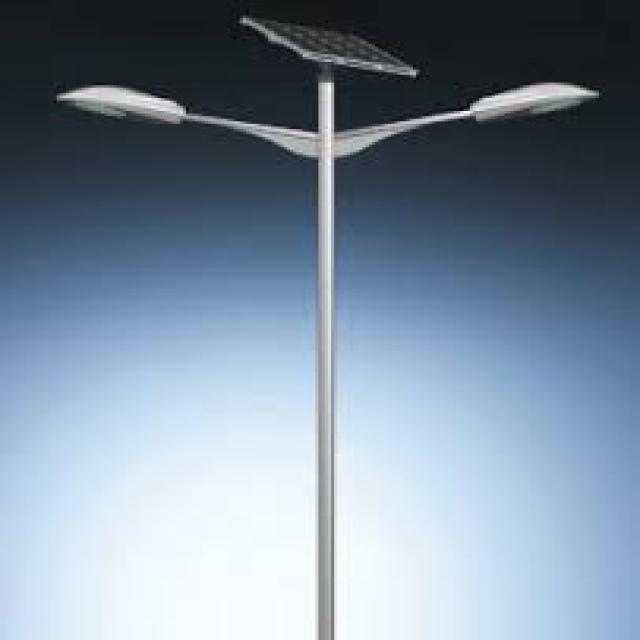Street Light: (50, 80, 596, 640)
